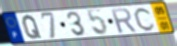3: (67, 11, 86, 38)
5: (84, 8, 110, 37)
7: (39, 11, 58, 41)
C: (133, 6, 157, 32)
Q: (21, 14, 43, 40)
R: (109, 8, 138, 35)
